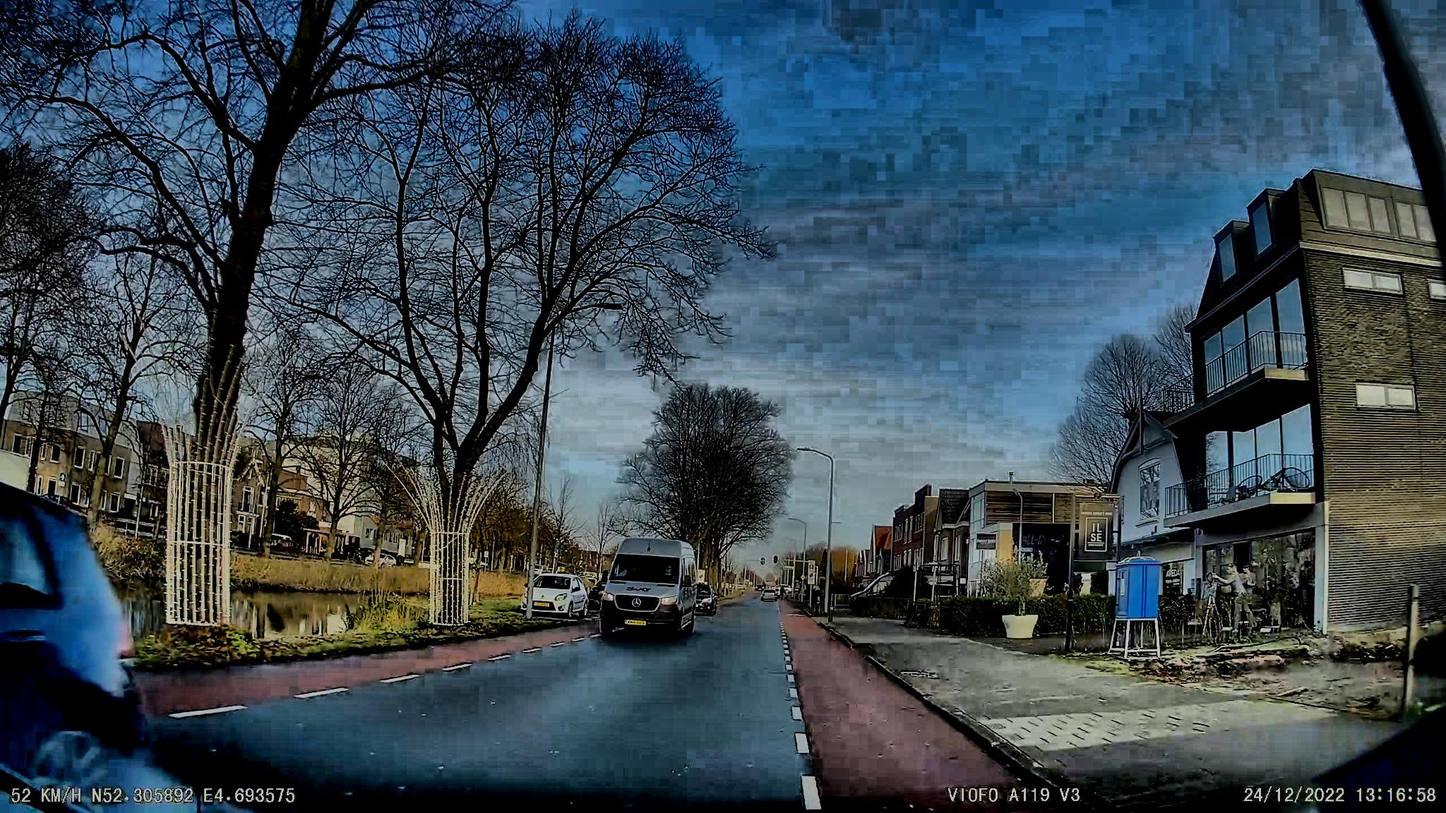Roads: (56, 598, 1093, 813)
